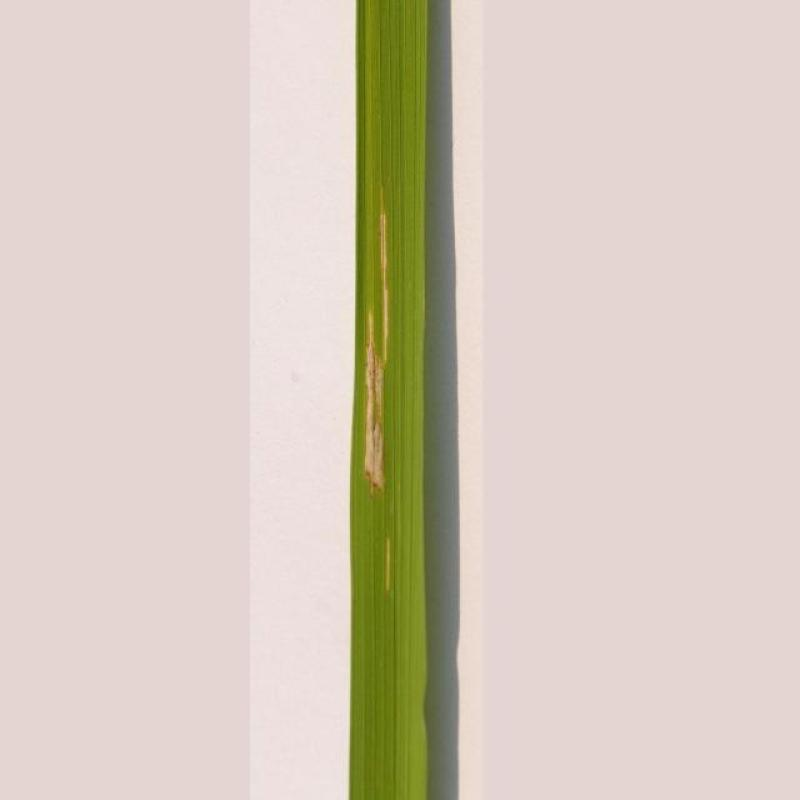Bacterial_Leaf_Blight: (337, 225, 405, 570)
